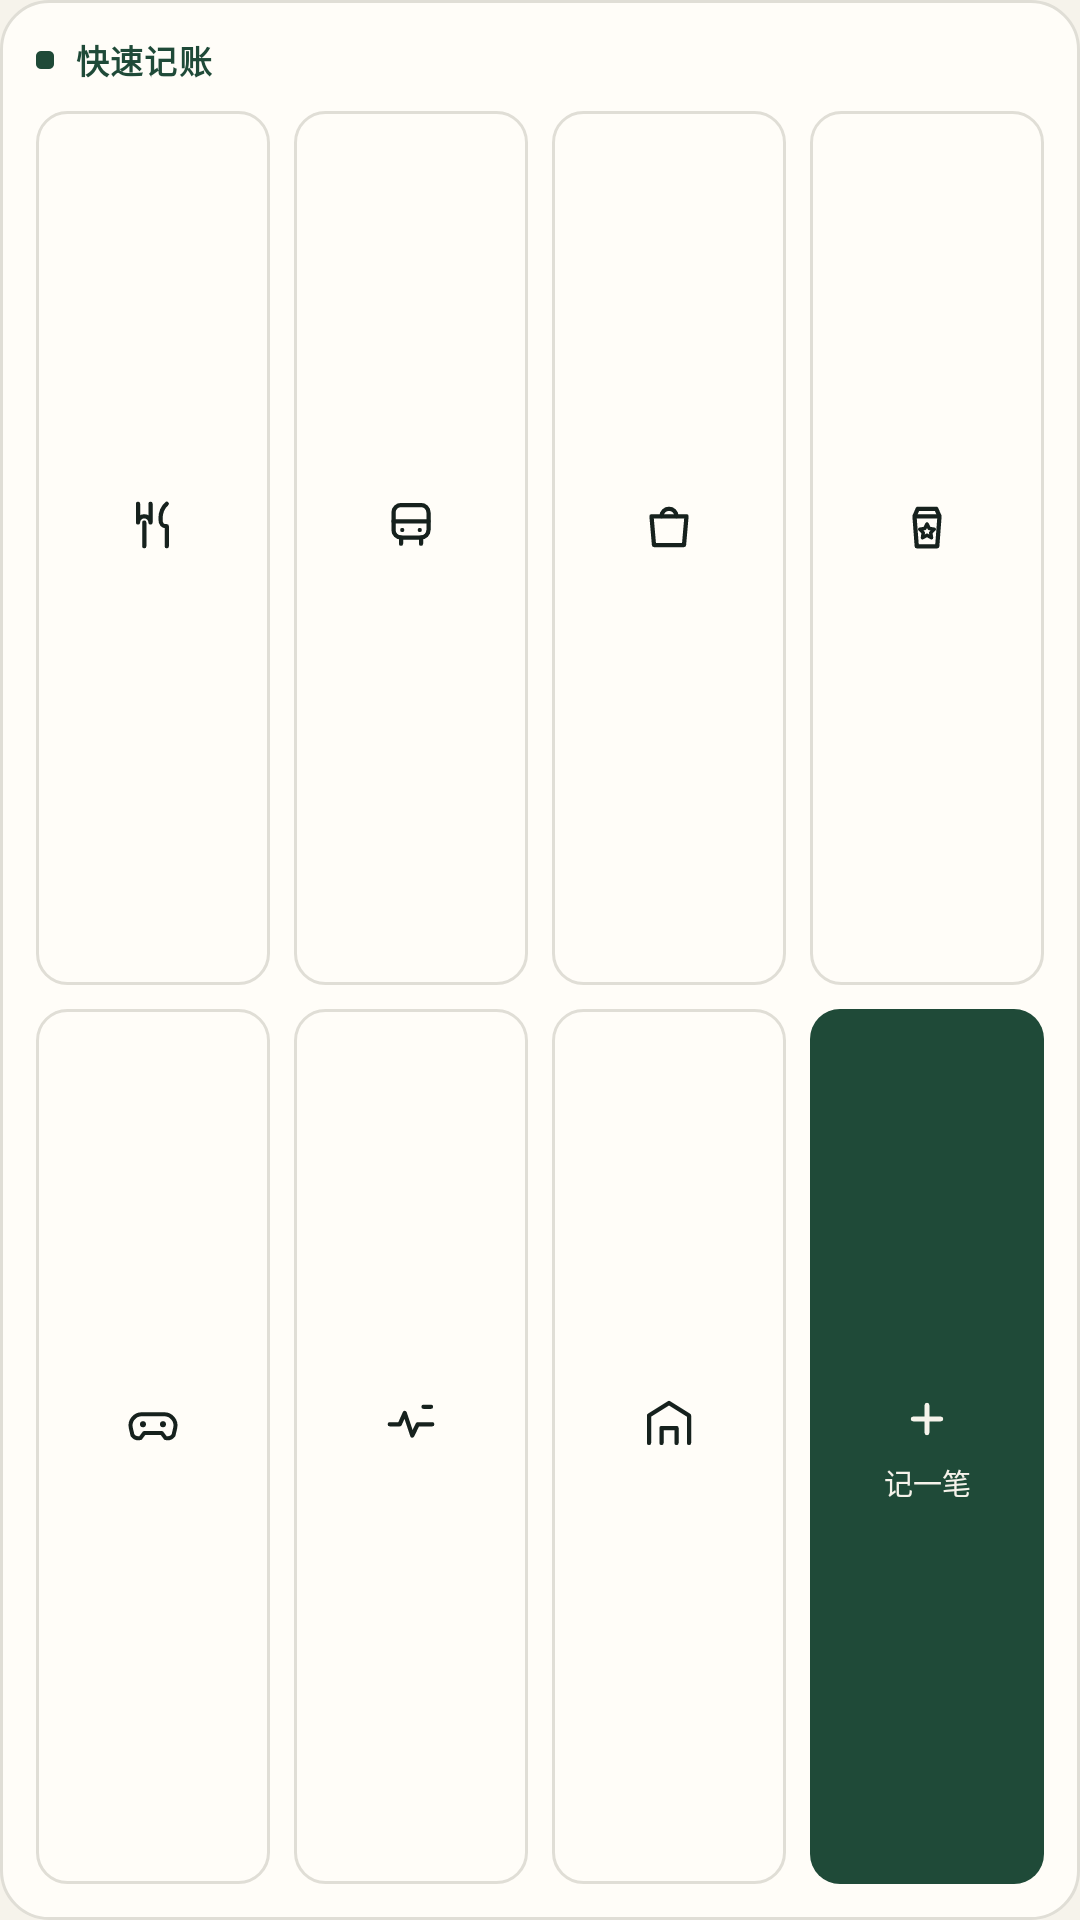

Icon click points for this 1080w x 1920h phone screenshot, format [x,y]:
bag: [669,527]
bus: [411,524]
food: [152,525]
game: [153,1426]
home: [669,1423]
med: [411,1421]
snack: [927,527]
widget plus glyph: [927,1419]
